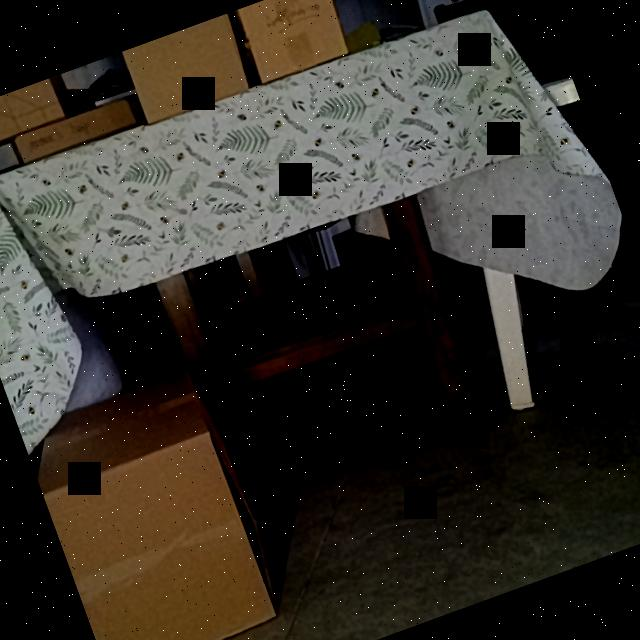box: (41, 428, 278, 640), (120, 15, 252, 126), (236, 0, 351, 85), (12, 94, 139, 166), (0, 77, 65, 148)
